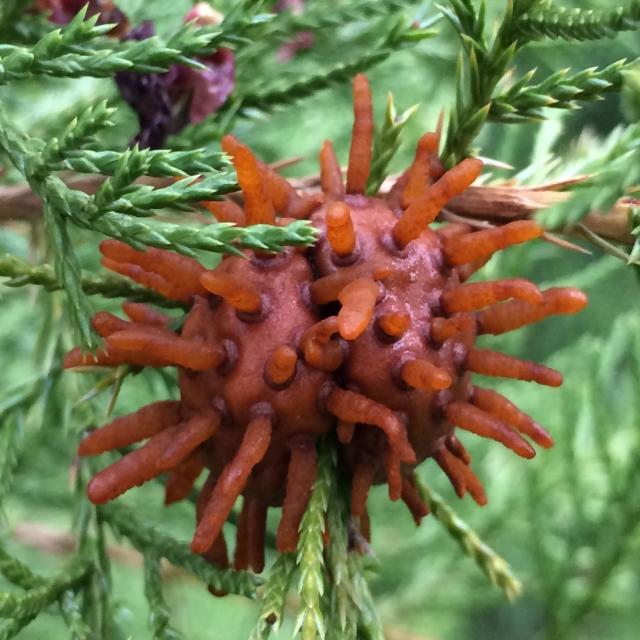Gymnosporangium_Rusts: (61, 73, 590, 580)
